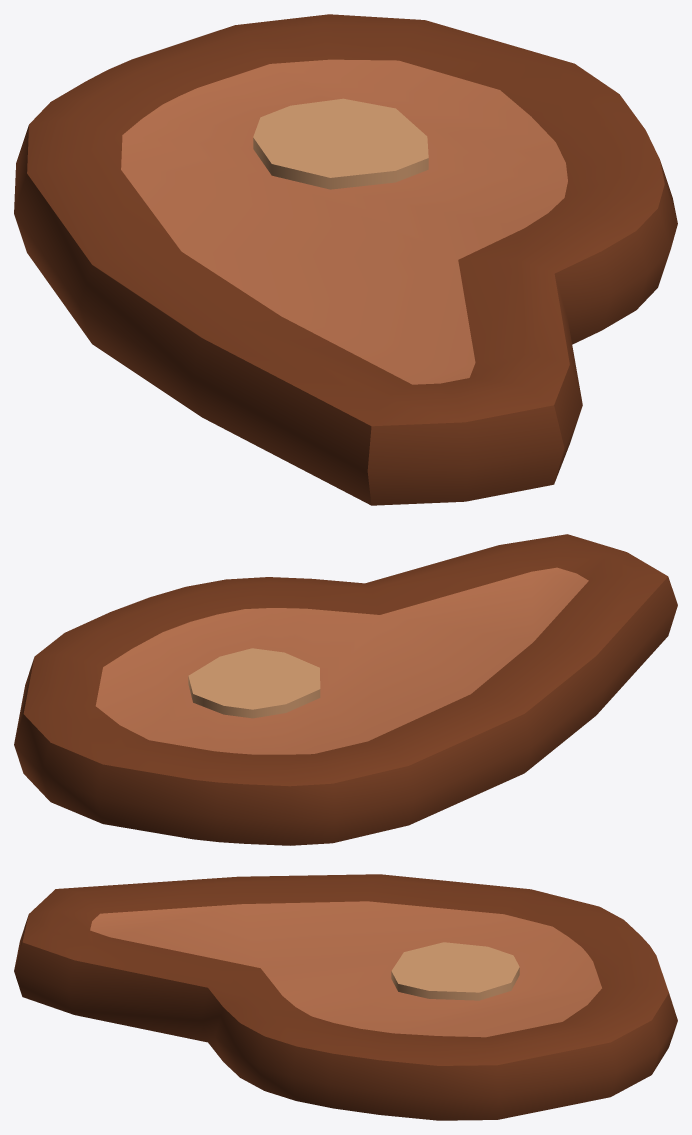
The model's file is ASFTR_HumanSteak.fbx.
The picture shows the model from 3 angles, top to bottom: view 1: azimuth 30°, elevation 25°; view 2: azimuth 150°, elevation 25°; view 3: azimuth 270°, elevation 25°; orthographic projection. The views are drawn at different scales.
Parts seen in each view (by area): view 1: ASFTR_HumanSteakCooked; view 2: ASFTR_HumanSteakCooked; view 3: ASFTR_HumanSteakCooked.
Part boxes in pixels (x1,y1,x2,y2): ASFTR_HumanSteakCooked: [14, 14, 677, 505]; ASFTR_HumanSteakCooked: [14, 534, 677, 845]; ASFTR_HumanSteakCooked: [14, 874, 677, 1120].
Size of the model in its own units: 51.25 by 8.33 by 72.15.
